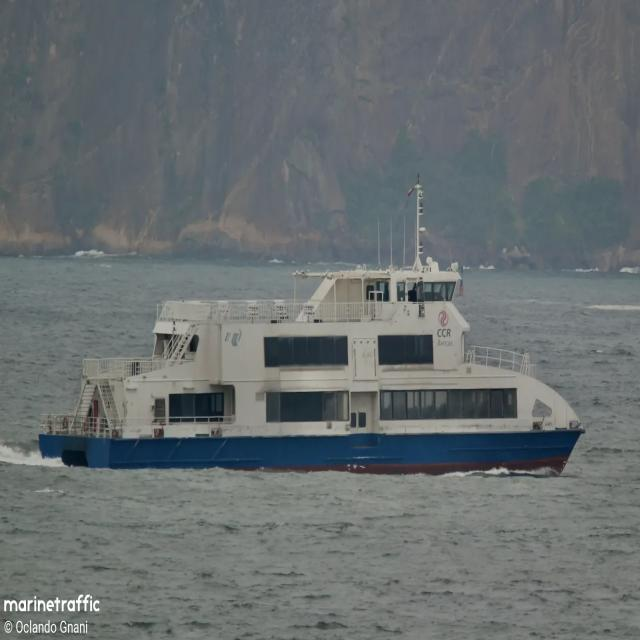Passenger: (39, 183, 584, 474)
